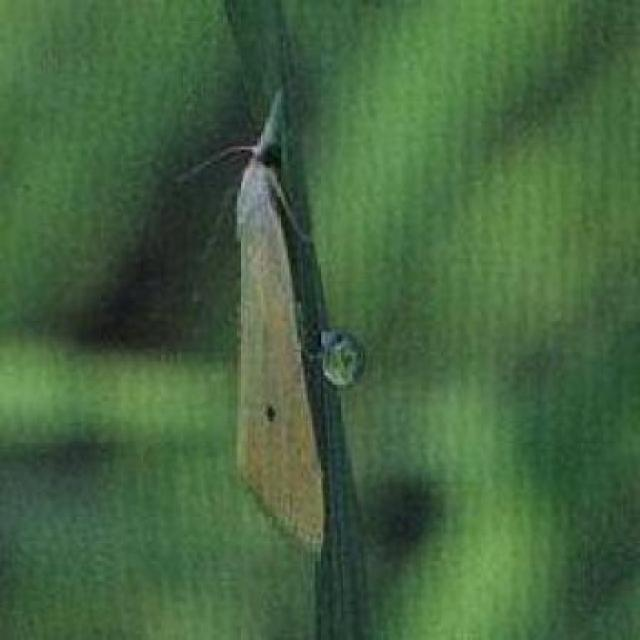stem-borer: (225, 80, 328, 563)
